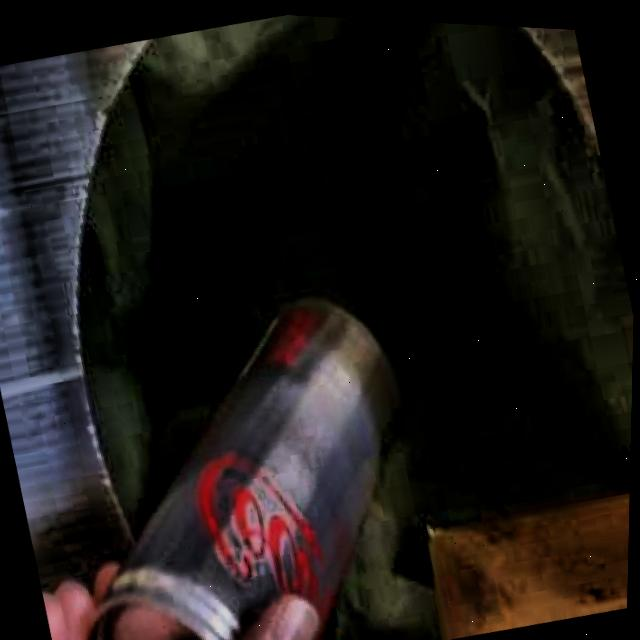metal: (93, 296, 398, 640)
